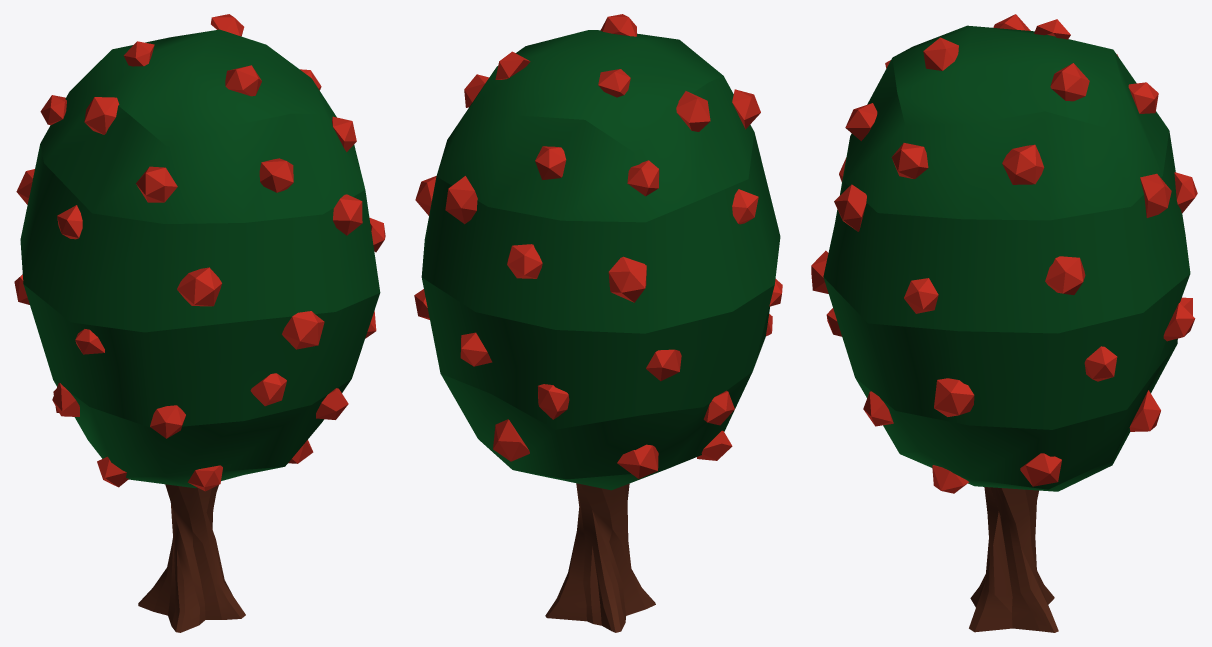
Rendered from Tree_2_Low_WF.fbx.
3 renders of one model, left to right at view 1: azimuth 30°, elevation 25°; view 2: azimuth 150°, elevation 25°; view 3: azimuth 270°, elevation 25°, orthographic. The views are drawn at different scales.
Visible parts, largest first — view 1: Tree_2_Low_WF; view 2: Tree_2_Low_WF; view 3: Tree_2_Low_WF.
Boxes of the visible parts, box(x1,y1,x2,y2) form: Tree_2_Low_WF: box(14, 14, 385, 632); Tree_2_Low_WF: box(414, 14, 782, 632); Tree_2_Low_WF: box(811, 14, 1197, 632).
Bounding box in the file's own units: 107 × 188 × 113.
